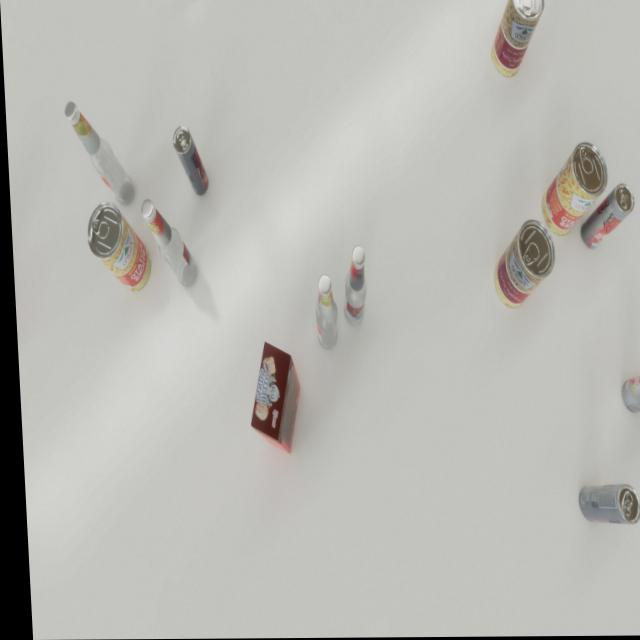Bottle: (63, 101, 133, 207), (138, 199, 196, 289), (337, 245, 366, 328), (309, 274, 336, 351)
HelloPanda: (243, 342, 299, 455)
Potato_sticks: (536, 143, 608, 237), (83, 201, 150, 292), (488, 220, 554, 309), (489, 0, 548, 78)
Rita_zero_sugar: (576, 184, 634, 250), (572, 485, 636, 526), (171, 126, 207, 196), (616, 364, 640, 413)
